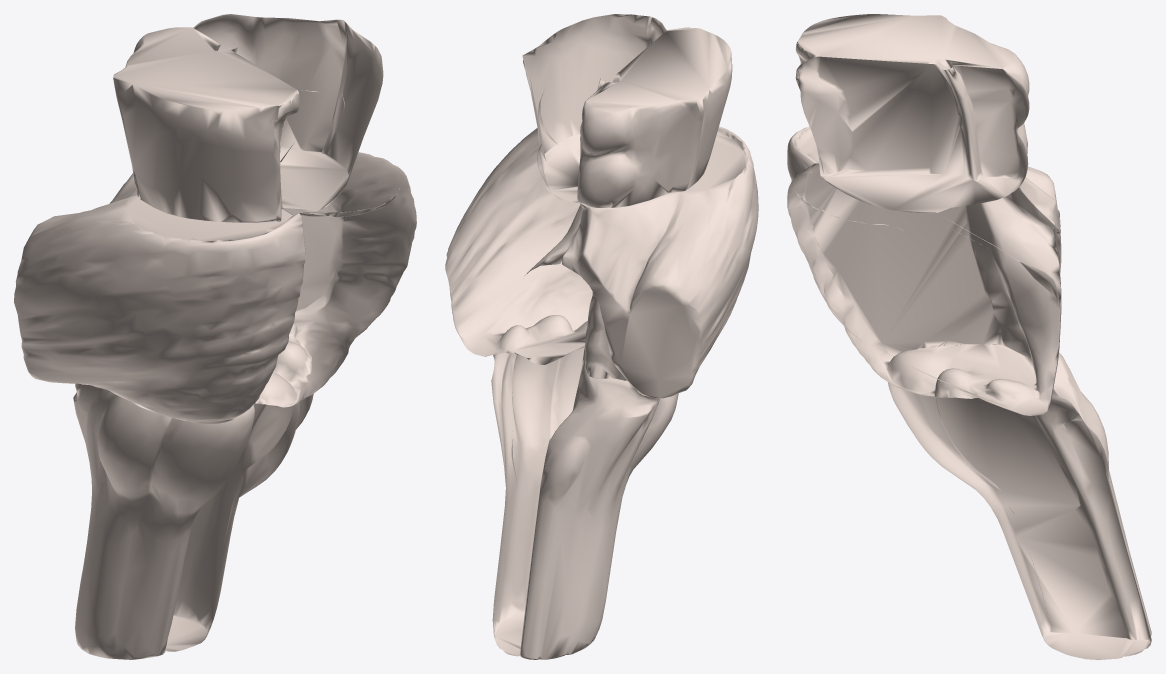
Rendered from zanatomy-brainstem.glb.
The picture shows the model from 3 angles, left to right: view 1: azimuth 30°, elevation 25°; view 2: azimuth 150°, elevation 25°; view 3: azimuth 270°, elevation 25°; orthographic projection. The views are drawn at different scales.
Visible parts, largest first — view 1: zb_brainstem; view 2: zb_brainstem; view 3: zb_brainstem.
Part boxes in pixels (bbox=[...]): zb_brainstem: bbox=[14, 14, 416, 659]; zb_brainstem: bbox=[445, 14, 758, 659]; zb_brainstem: bbox=[787, 14, 1151, 659].
Bounding box in the file's own units: 0.041 × 0.0786 × 0.0444.
